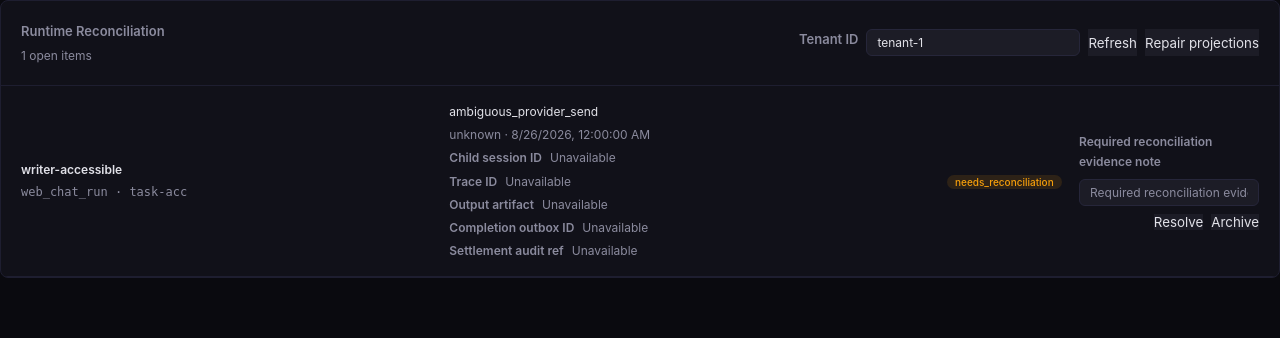
Test: AdminRuntimeReconciliationSection — projection repair (mounted) › labels required inputs, scopes action names to the task, and announces API errors
Check: the button with aria-label "Resolve — writer-accessible" is disabled, box top-left (1154, 214), bottom-right (1203, 230)
Type "Verified the canonical task evidence." into the field labelled "Required reconciliation evidence note" at (1169, 192), box top-left (1079, 179), bottom-right (1259, 206)
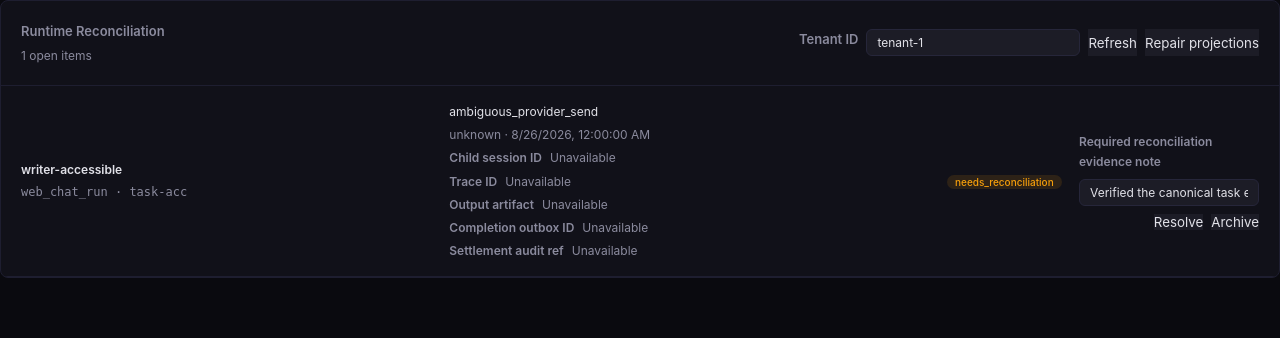
Click the button with aria-label "Resolve — writer-accessible" at (1179, 222), box top-left (1154, 214), bottom-right (1203, 230)
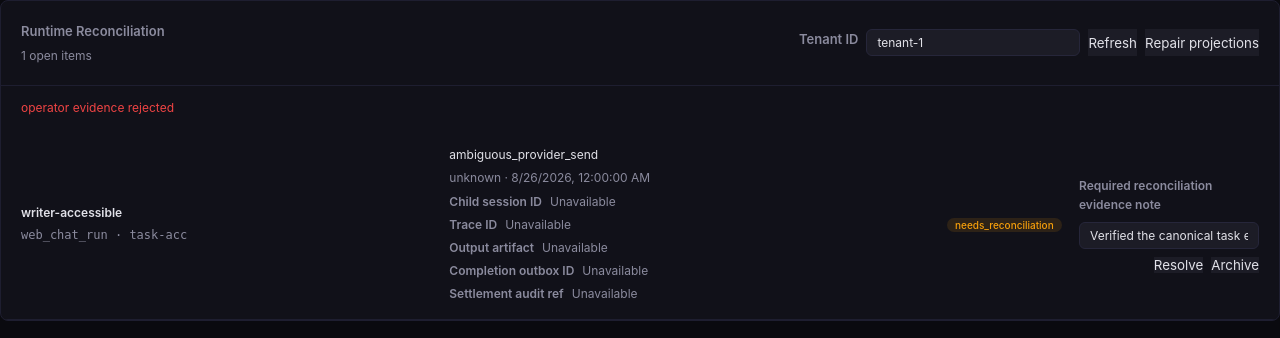
Check: the message reads "operator evidence rejected", box top-left (21, 100), bottom-right (174, 115)
